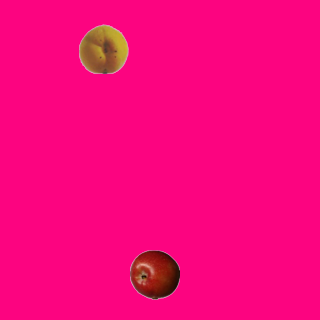Apple Braeburn: (129, 249, 179, 299)
Peach 2: (78, 23, 128, 73)
